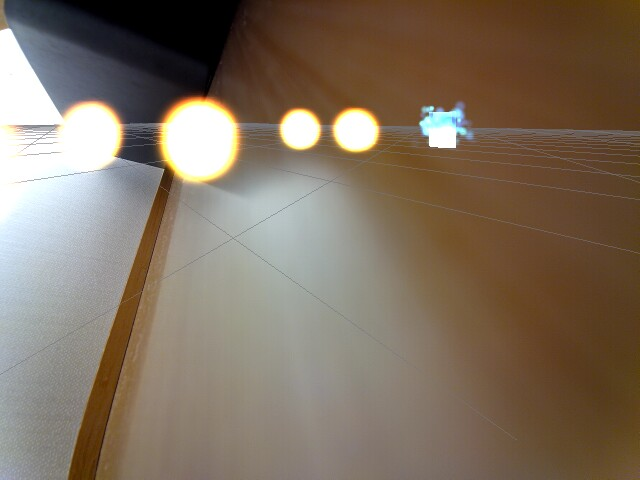fire: (161, 96, 242, 184), (57, 100, 124, 172), (0, 108, 31, 235), (332, 107, 383, 154), (279, 106, 321, 153)
